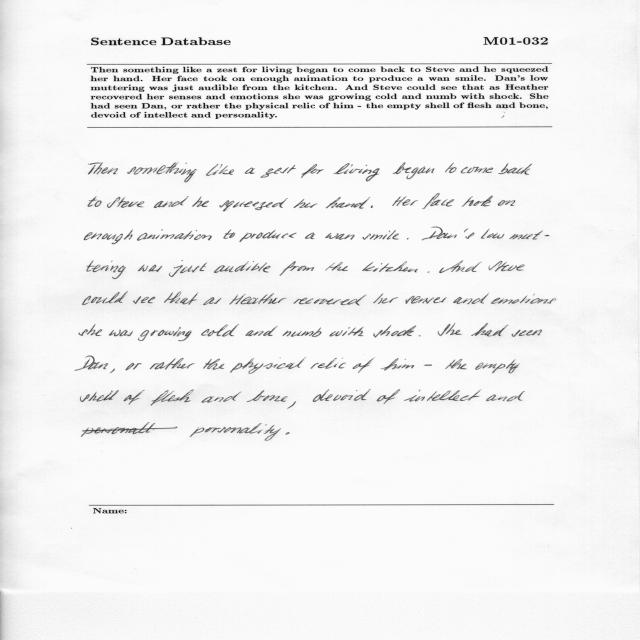word: (81, 422, 281, 441), (127, 163, 197, 183), (230, 357, 306, 374), (404, 390, 480, 402), (137, 229, 212, 241), (219, 198, 288, 211), (334, 163, 380, 181), (294, 295, 367, 306), (138, 327, 192, 341), (313, 389, 371, 402), (150, 389, 194, 406), (87, 261, 126, 280), (84, 230, 133, 245), (393, 163, 435, 180), (239, 230, 297, 242), (214, 261, 271, 273), (230, 293, 287, 305), (422, 227, 474, 240), (491, 294, 556, 304), (169, 260, 207, 277), (475, 360, 520, 374), (362, 262, 418, 273), (83, 292, 128, 305), (439, 261, 482, 274), (326, 197, 370, 209), (373, 325, 416, 337), (422, 193, 454, 209), (280, 261, 314, 276), (75, 356, 108, 371), (150, 358, 195, 369), (201, 324, 239, 337), (247, 391, 288, 403), (471, 324, 508, 337), (260, 165, 296, 178), (80, 390, 119, 402), (201, 392, 242, 403), (453, 292, 490, 304), (164, 292, 198, 305), (381, 358, 414, 371), (486, 391, 525, 402), (154, 196, 189, 208), (498, 163, 532, 175), (107, 197, 144, 208), (311, 358, 346, 369), (362, 230, 399, 240), (88, 163, 118, 175), (510, 231, 550, 240), (489, 261, 525, 271), (283, 328, 322, 337), (329, 327, 364, 337), (377, 389, 400, 404), (462, 196, 493, 207), (206, 164, 234, 176), (405, 296, 447, 304), (245, 326, 278, 336), (301, 164, 324, 178), (353, 358, 374, 373), (124, 390, 145, 405), (438, 323, 462, 336), (79, 324, 102, 336), (373, 293, 398, 304), (392, 196, 418, 206), (481, 229, 505, 239), (204, 359, 225, 370), (461, 167, 493, 174), (445, 359, 467, 369), (294, 199, 318, 208), (325, 233, 355, 240), (512, 330, 542, 337), (325, 262, 348, 271), (138, 264, 162, 272), (133, 296, 155, 304), (192, 197, 209, 207), (109, 330, 133, 337), (203, 297, 221, 305), (88, 196, 101, 207), (445, 163, 457, 173), (125, 363, 142, 370), (224, 230, 236, 239), (498, 200, 515, 206), (287, 401, 296, 409), (245, 168, 255, 174), (305, 233, 315, 239), (110, 369, 115, 374), (424, 364, 432, 366), (285, 432, 290, 435), (371, 205, 373, 208), (407, 238, 409, 240), (428, 271, 430, 273), (418, 336, 421, 337)
